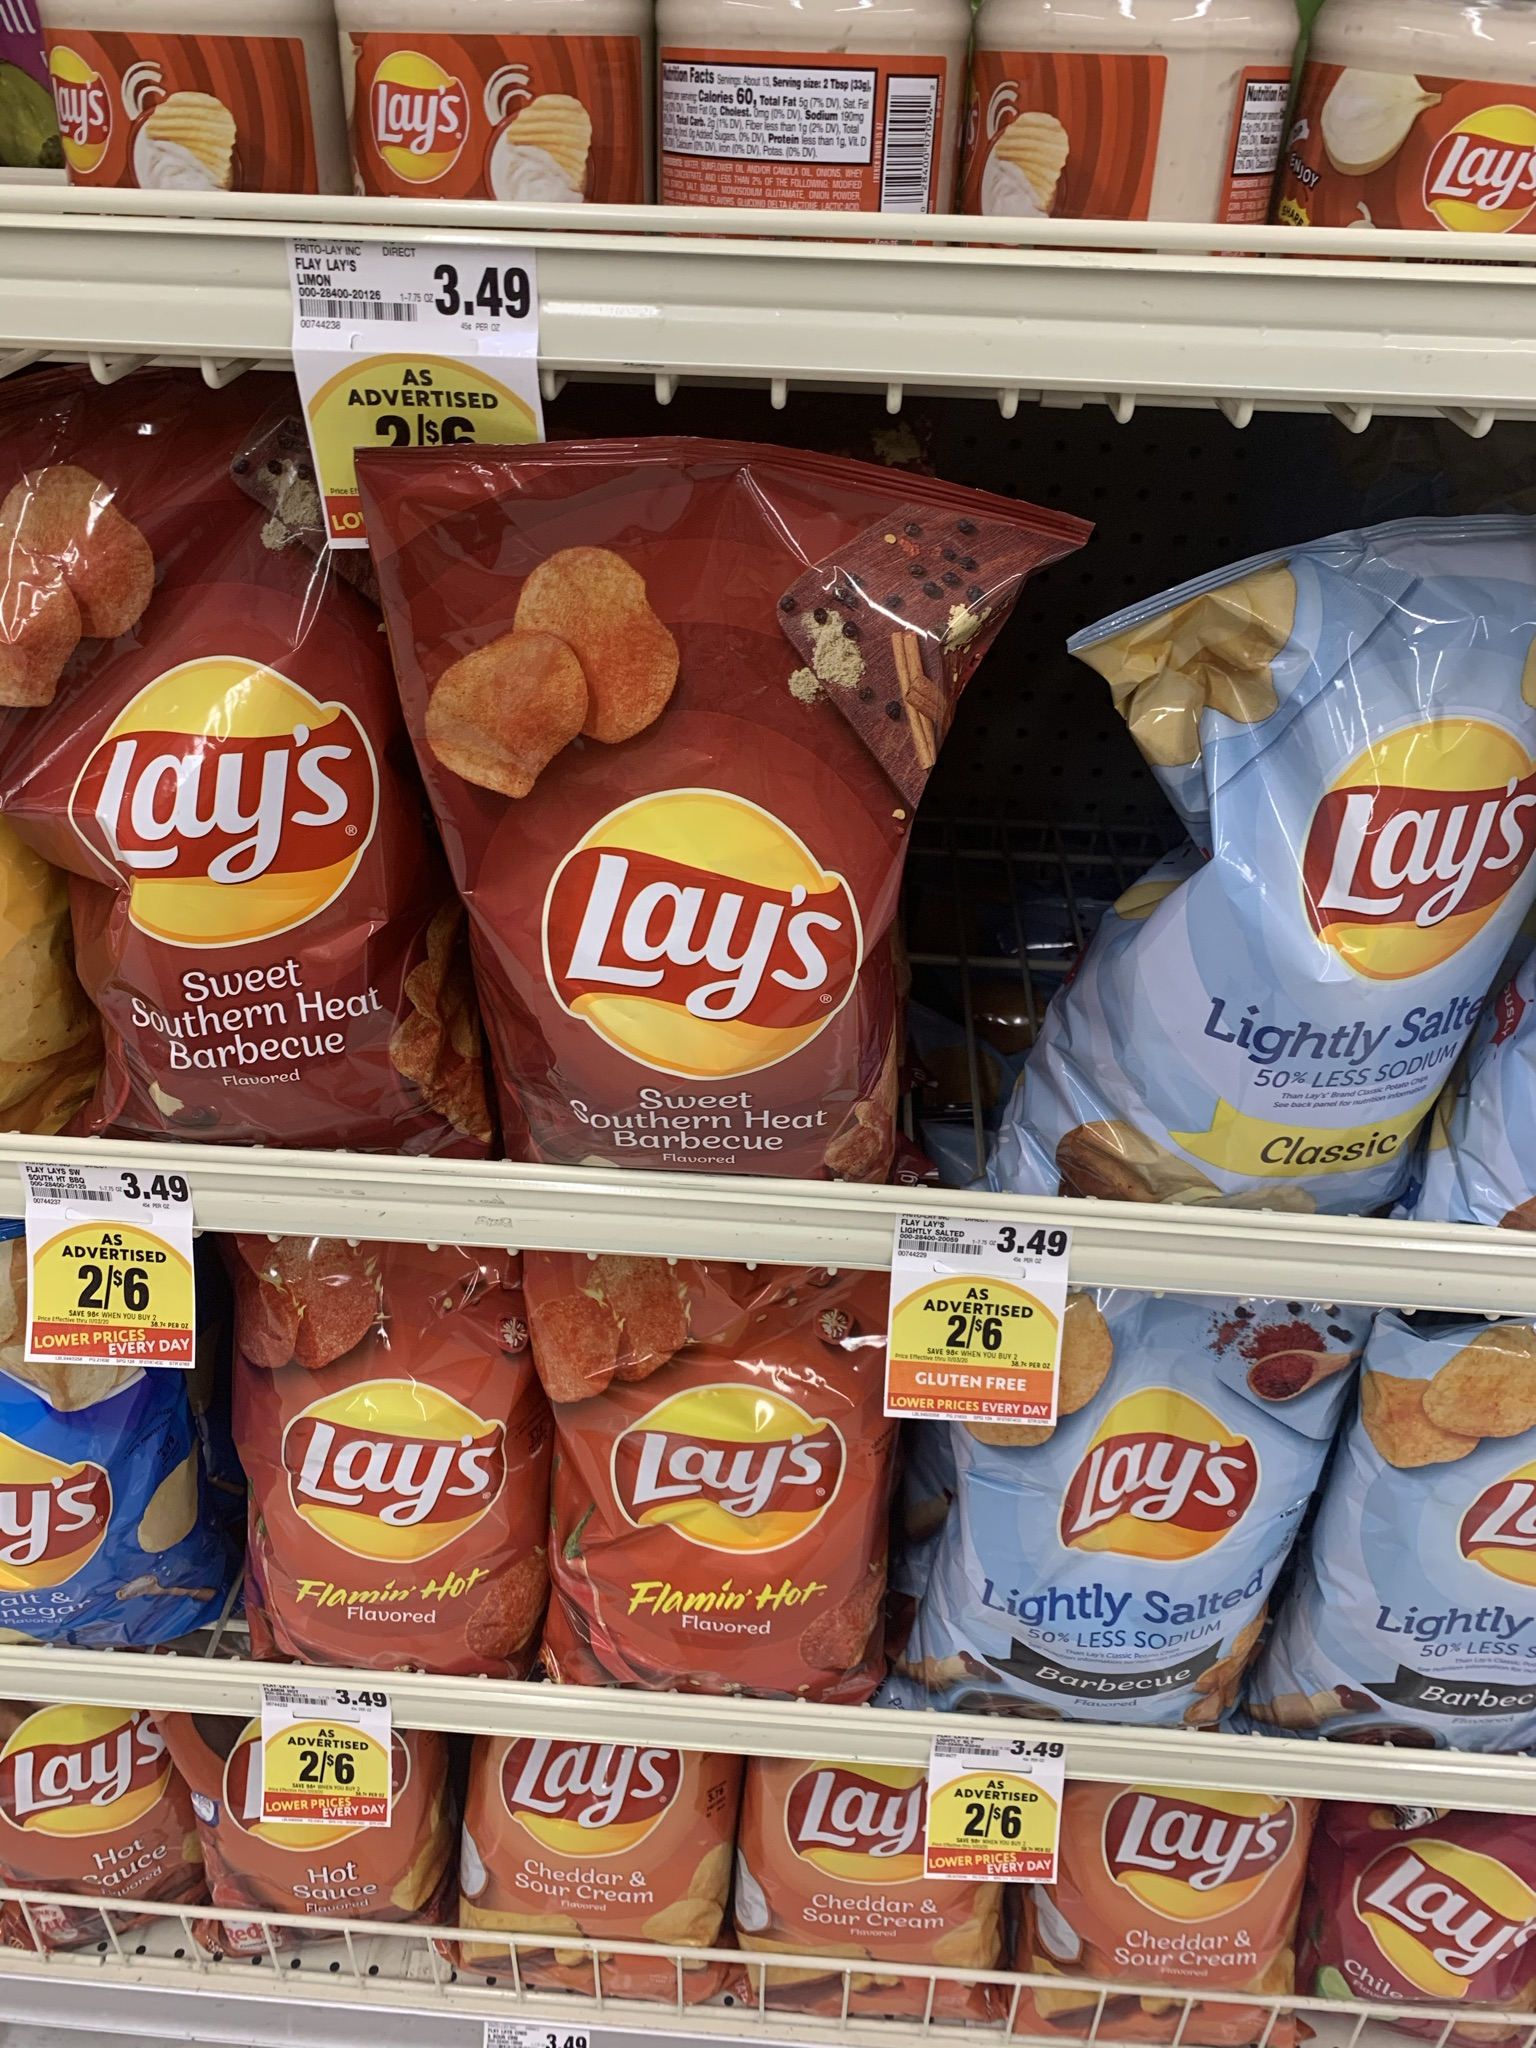lays: (432, 443, 889, 1079), (23, 466, 444, 1126), (1133, 584, 1404, 1192), (248, 1261, 542, 1687), (574, 1280, 839, 1693), (970, 1309, 1233, 1711), (2, 1242, 210, 1659), (765, 1771, 1025, 2006), (1367, 1335, 1518, 1709), (482, 1751, 712, 1959), (1066, 1796, 1270, 1992), (6, 1706, 174, 1929), (1359, 1834, 1530, 2019), (242, 1730, 407, 1909)
